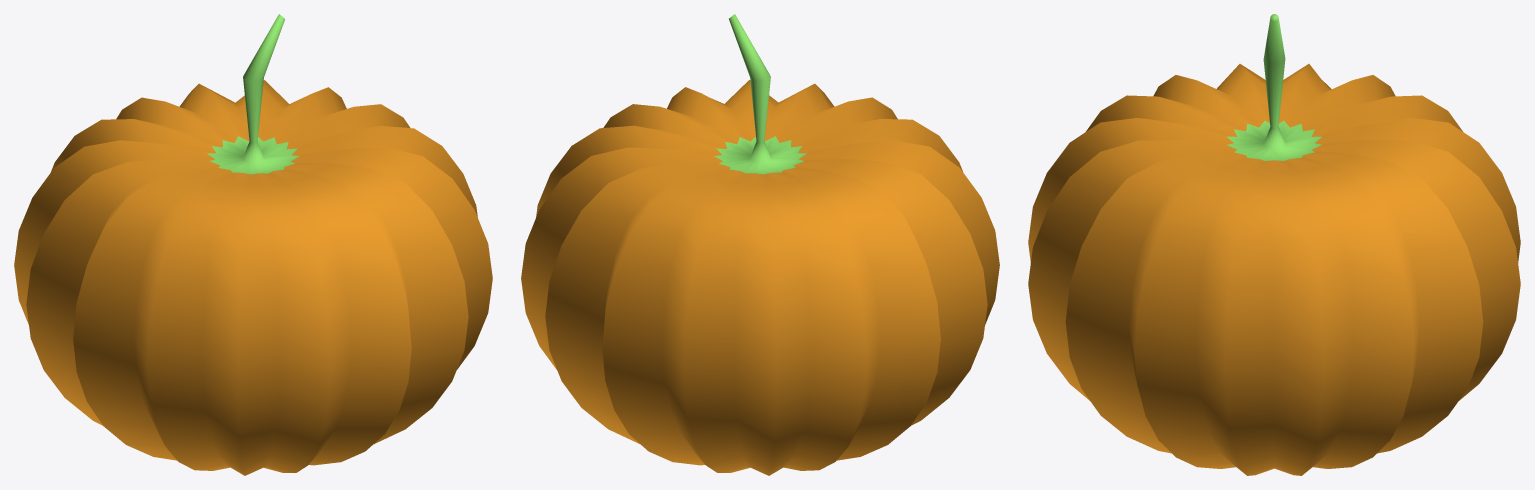
The model's file is Pumpkin.fbx.
3 views of the same model, side by side, from view 1: azimuth 30°, elevation 25°; view 2: azimuth 150°, elevation 25°; view 3: azimuth 270°, elevation 25° (orthographic). The views are drawn at different scales.
Parts seen in each view (by area): view 1: Сфера; view 2: Сфера; view 3: Сфера.
Boxes of the visible parts, left/top/right/bottom form: Сфера: left=14, top=14, right=492, bottom=475; Сфера: left=521, top=14, right=999, bottom=475; Сфера: left=1028, top=14, right=1520, bottom=475.
Size of the model in its own units: 240 by 241 by 240.
